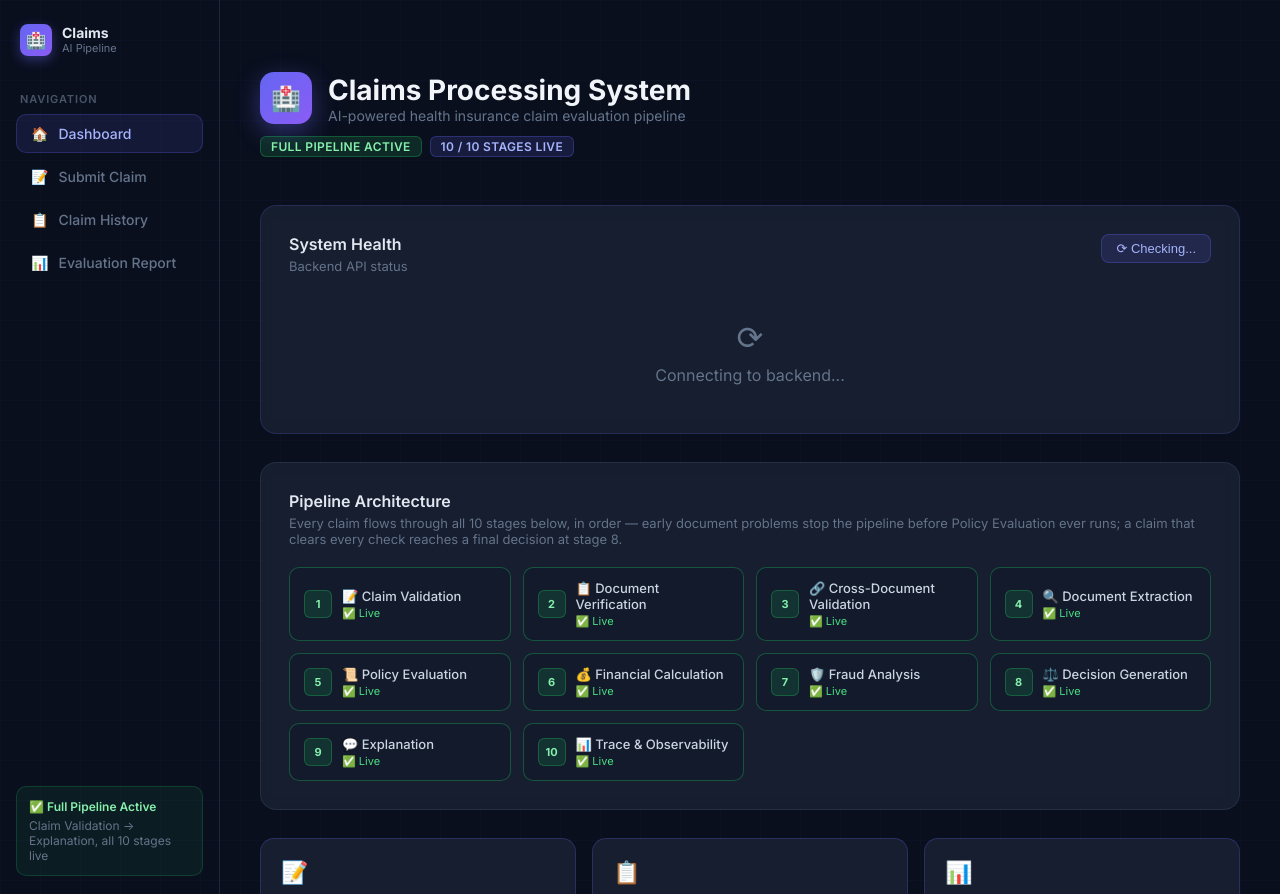
App navigation › navigating to Claim History renders the real ClaimHistory page
Click the link "📋 Claim History": (90, 220) x1=31 y1=211 x2=148 y2=228
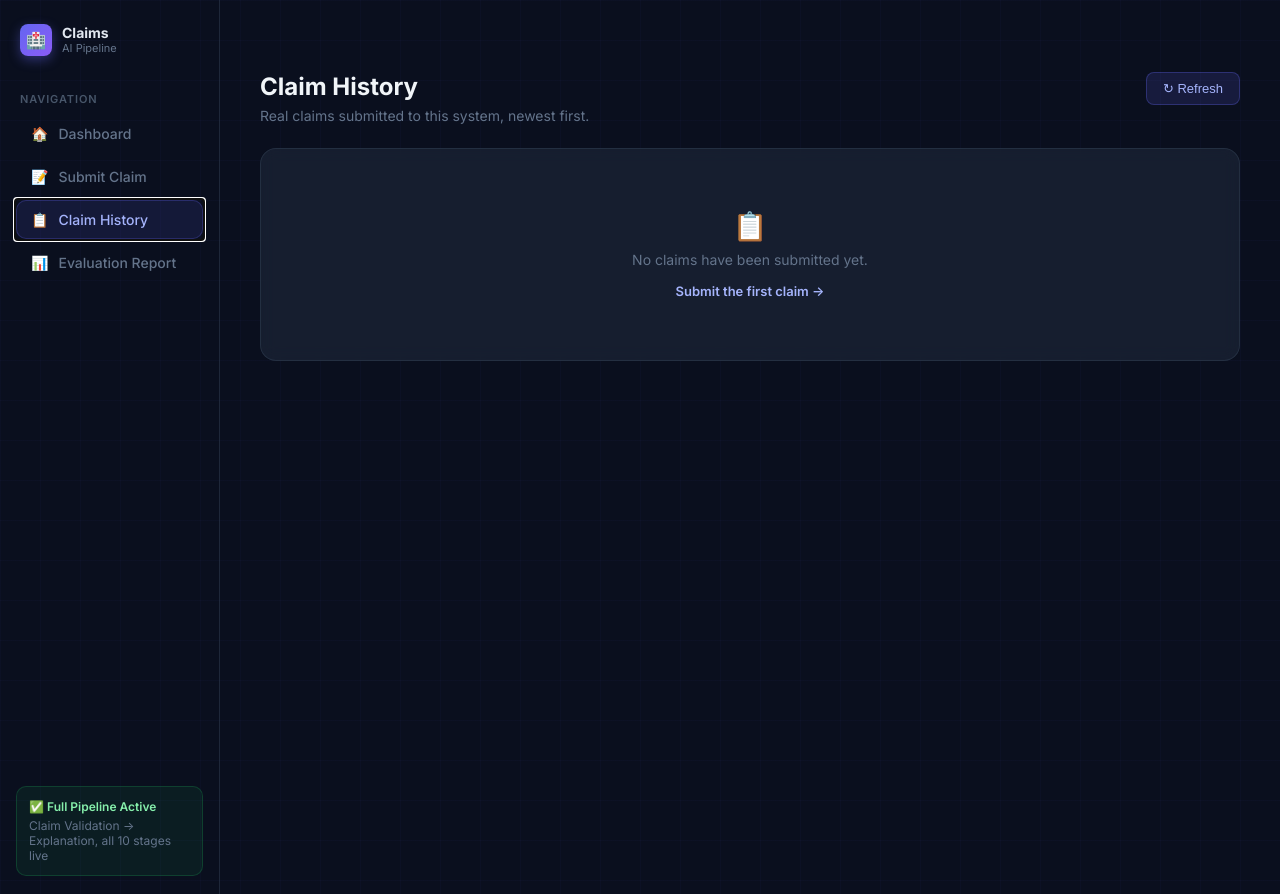
Result: the text "No claims have been submitted yet." is shown at x1=632 y1=251 x2=868 y2=268
